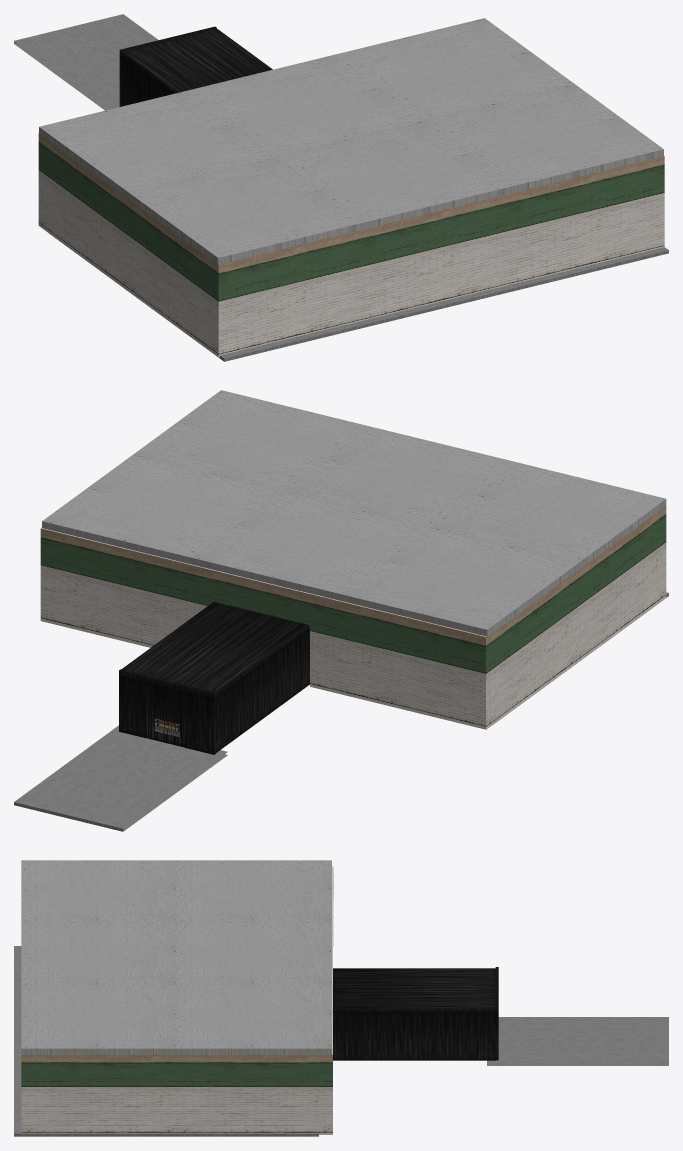
Rendered from Backstage.glb.
The picture shows the model from 3 angles, top to bottom: view 1: azimuth 30°, elevation 25°; view 2: azimuth 150°, elevation 25°; view 3: azimuth 270°, elevation 25°; orthographic projection. The views are drawn at different scales.
Parts seen in each view (by area): view 1: Backstage; view 2: Backstage; view 3: Backstage.
Boxes of the visible parts, x1,y1,x2,y2 form: Backstage: (14, 14, 668, 361); Backstage: (14, 390, 668, 831); Backstage: (14, 860, 668, 1136).
Size of the model in its own units: 177 by 38.35 by 260.
Materials: 27 (26 with a texture image).
